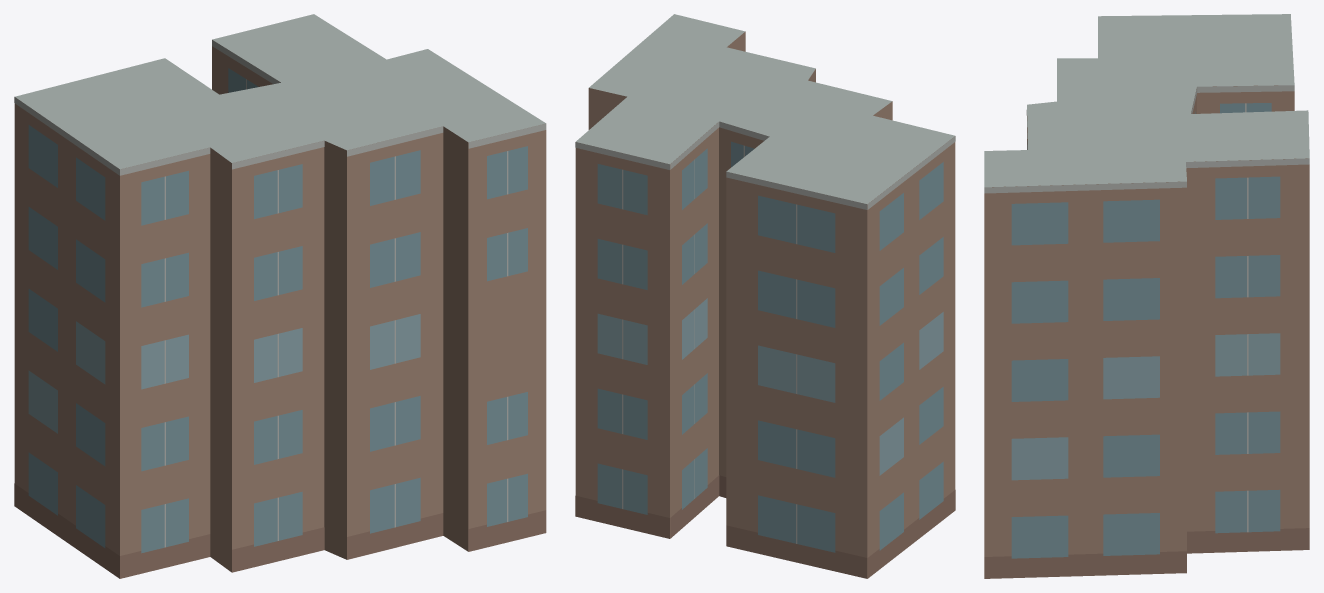
File: survey-upis-32471104.glb
3 views of the same model, side by side, from view 1: azimuth 30°, elevation 25°; view 2: azimuth 150°, elevation 25°; view 3: azimuth 270°, elevation 25° (orthographic). The views are drawn at different scales.
Parts seen in each view (by area): view 1: survey-upis-32471104.tmp; view 2: survey-upis-32471104.tmp; view 3: survey-upis-32471104.tmp.
Boxes of the visible parts, <box> form: survey-upis-32471104.tmp: <box>14,14,546,578</box>; survey-upis-32471104.tmp: <box>575,14,955,578</box>; survey-upis-32471104.tmp: <box>984,14,1309,578</box>.
Size of the model in its own units: 14.74 by 15.52 by 11.71.
